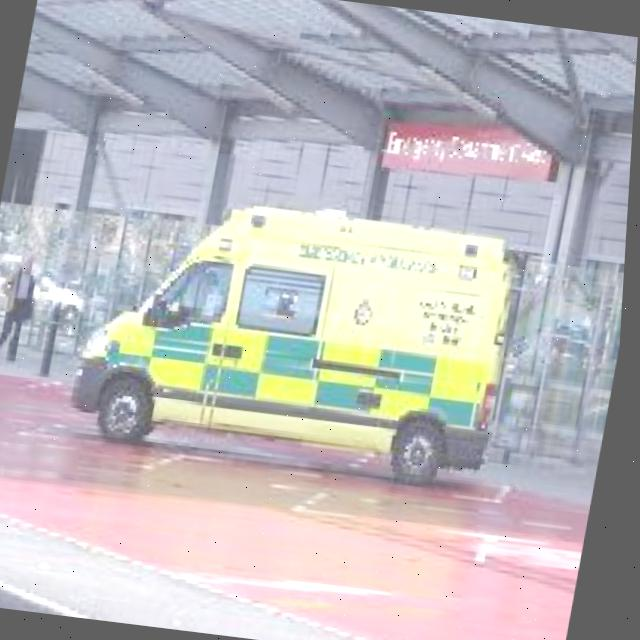emergency: (62, 180, 537, 494)
